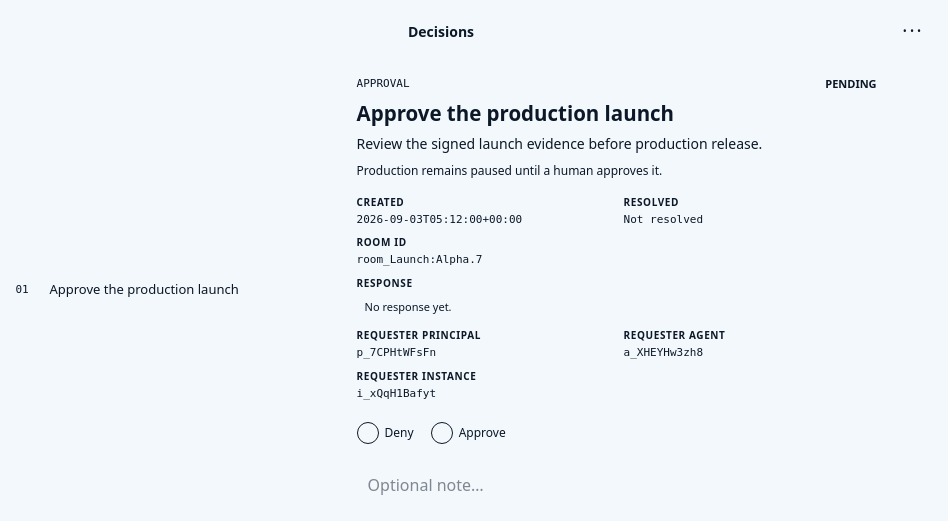
Scenario: SharedNet Decisions › disables the selected mutation controls and keeps the Decision pending until provider refresh resolves
Type "Keep this draft until refresh." into the field labelled "Optional note" at (617, 484), box [357, 465, 877, 504]
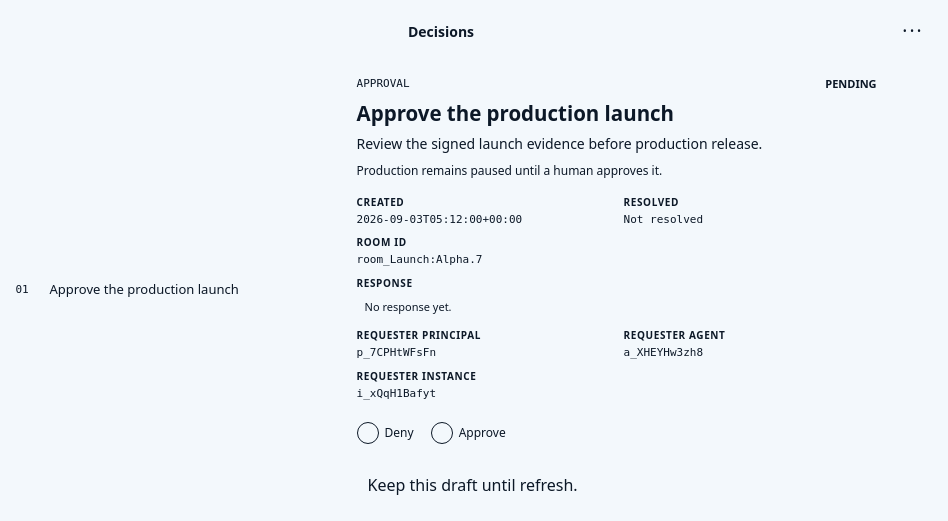
Click the button "Approve" at (468, 433), box [431, 417, 506, 449]
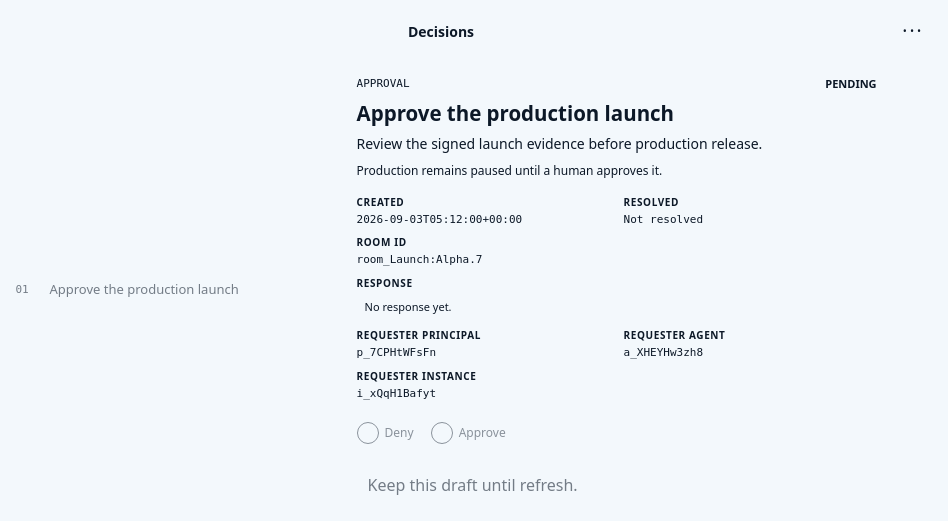
expect the button "Approve" is disabled: met, box [431, 417, 506, 449]
expect the button "Deny" is disabled: met, box [357, 417, 414, 449]
expect the field named "Optional note" is disabled: met, box [357, 465, 877, 504]
Click the button named "Show past decisions" at (913, 31), box [895, 13, 931, 49]
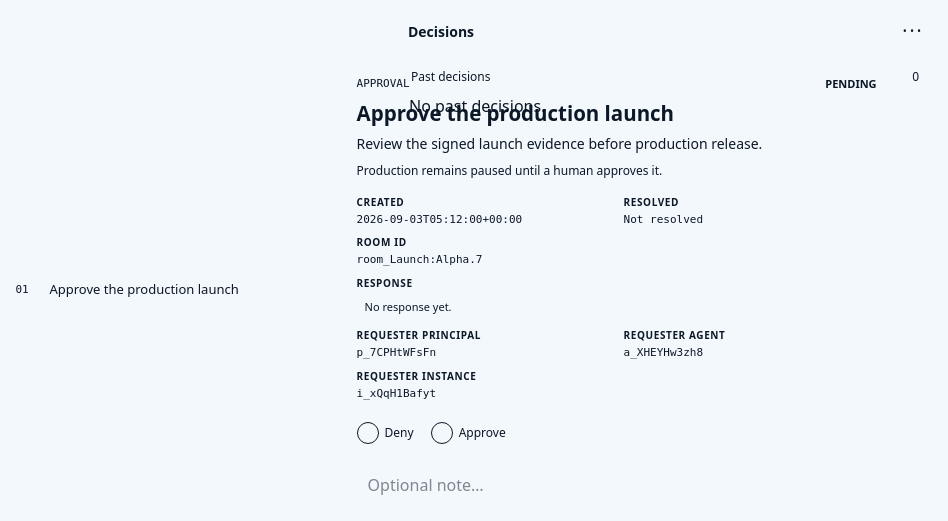
expect the element "Approve the production launch" is shown: met, box [357, 76, 877, 504]
expect the field labelled "Optional note" is empty: met, box [357, 465, 877, 504]
expect the button "Approve" is enabled: met, box [431, 417, 506, 449]
